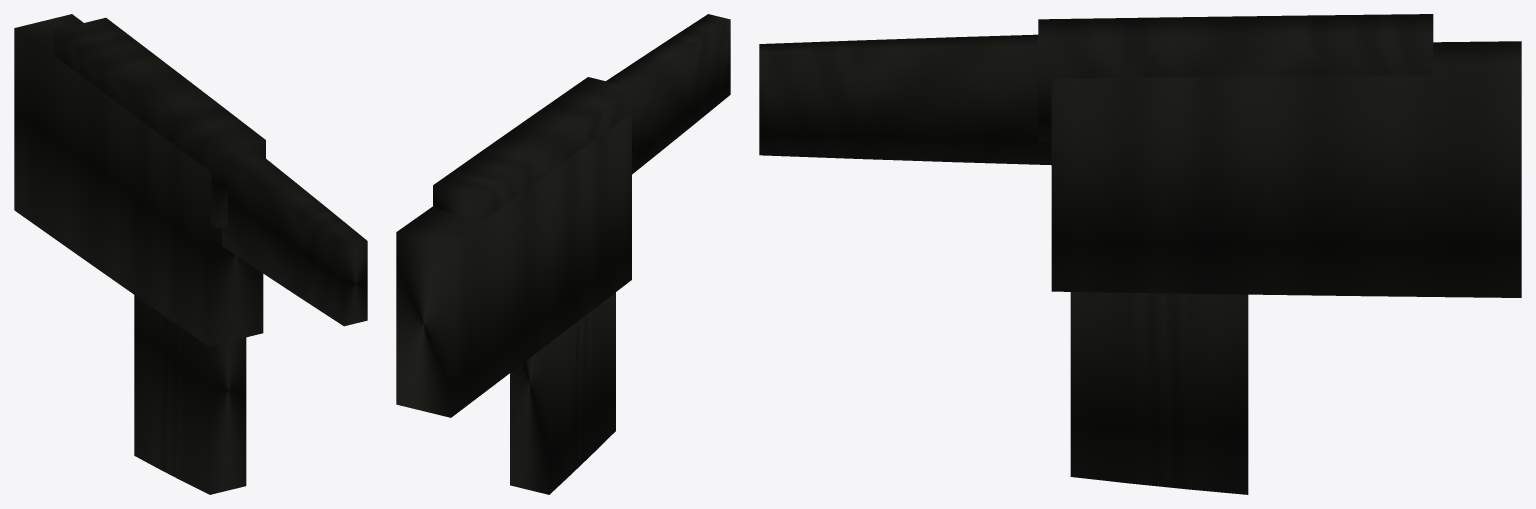
The model's file is wpn_glock17_tactical.glb.
3 views of the same model, side by side, from view 1: azimuth 30°, elevation 25°; view 2: azimuth 150°, elevation 25°; view 3: azimuth 270°, elevation 25° (orthographic). The views are drawn at different scales.
Visible parts, largest first — view 1: SubMesh_0_Receiver, SubMesh_2_Magazine, SubMesh_3_BarrelSight, SubMesh_1_Action; view 2: SubMesh_0_Receiver, SubMesh_2_Magazine, SubMesh_1_Action, SubMesh_3_BarrelSight; view 3: SubMesh_0_Receiver, SubMesh_2_Magazine, SubMesh_3_BarrelSight, SubMesh_1_Action.
Boxes of the visible parts, <box> form: SubMesh_0_Receiver: <box>14,14,263,346</box>; SubMesh_2_Magazine: <box>134,295,246,494</box>; SubMesh_3_BarrelSight: <box>222,150,367,326</box>; SubMesh_1_Action: <box>53,17,265,228</box>; SubMesh_0_Receiver: <box>396,115,631,417</box>; SubMesh_2_Magazine: <box>510,292,615,494</box>; SubMesh_1_Action: <box>433,77,634,220</box>; SubMesh_3_BarrelSight: <box>606,14,730,174</box>; SubMesh_0_Receiver: <box>1051,41,1521,297</box>; SubMesh_2_Magazine: <box>1070,292,1248,494</box>; SubMesh_3_BarrelSight: <box>759,34,1051,165</box>; SubMesh_1_Action: <box>1038,14,1433,142</box>.
Bounding box in the file's own units: 0.032 × 0.1966 × 0.3.
1 material, 1 textured.
